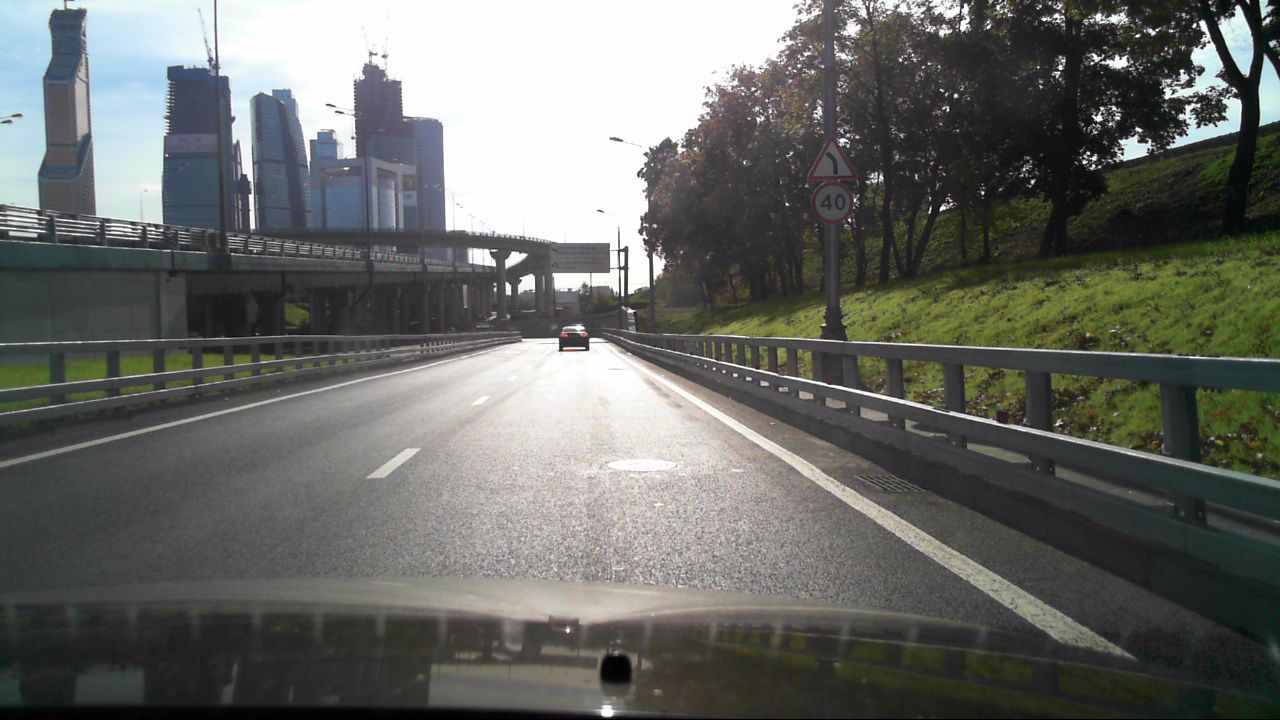speed_warning_40: (812, 179, 857, 224)
